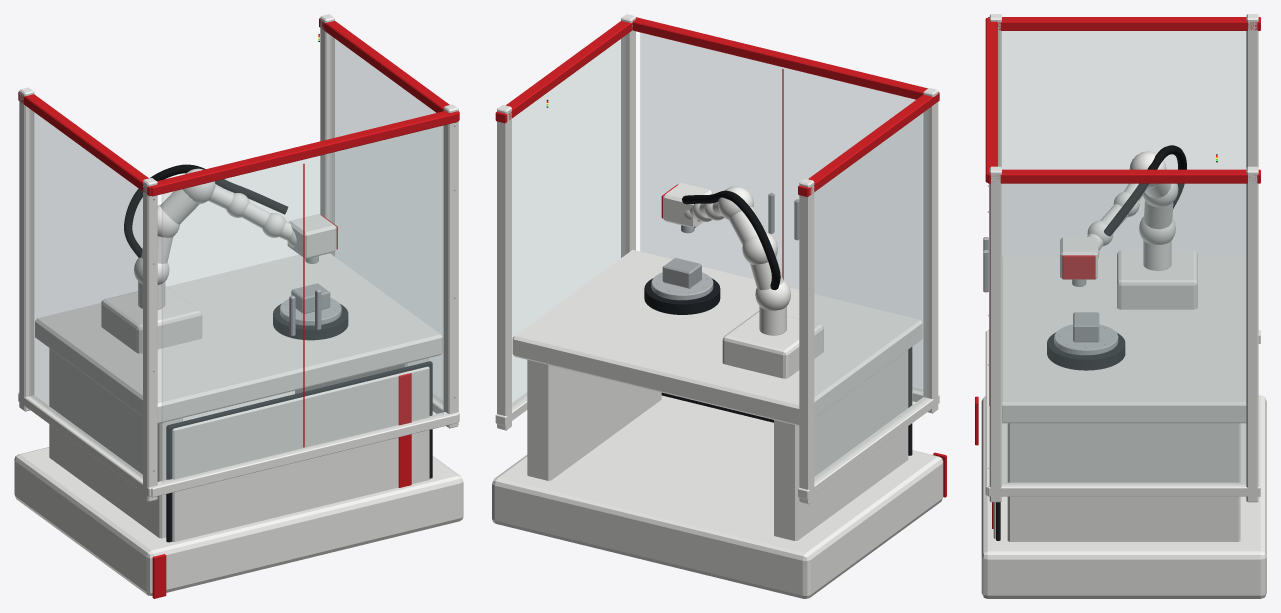
File: robot-graver-cell.glb
3 views of the same model, side by side, from view 1: azimuth 30°, elevation 25°; view 2: azimuth 150°, elevation 25°; view 3: azimuth 270°, elevation 25° (orthographic). The views are drawn at different scales.
Visible parts, largest first — view 1: closed front clear guard, closed guard side polycarbonate, cell white worktable, front white service door, white cell base, closed guard side polycarbonate.001, worktable white cabinet upright, guard vertical white post.001, guard vertical white post.002, guard vertical white post, front red top safety rail, front white lower safety rail (+14 smaller); view 2: closed front clear guard, white cell base, closed guard side polycarbonate, cell white worktable, closed guard side polycarbonate.001, worktable white cabinet upright, worktable white cabinet upright.001, guard vertical white post.001, guard vertical white post, guard vertical white post.003, front red top safety rail, robot mounting plinth (+14 smaller); view 3: closed guard side polycarbonate.001, closed guard side polycarbonate, cell white worktable, worktable white cabinet upright.001, white cell base, guard vertical white post.002, guard vertical white post.003, robot mounting plinth, side guard white bottom rail.001, side guard red top rail.001, side guard red top rail, front red top safety rail (+14 smaller).
Part boxes in pixels (box(x1,y1,x2,y2)): closed front clear guard: box(162, 126, 443, 482); closed guard side polycarbonate: box(29, 109, 142, 478); cell white worktable: box(35, 253, 442, 423); front white service door: box(172, 366, 429, 542); white cell base: box(14, 391, 463, 595); closed guard side polycarbonate.001: box(330, 36, 442, 403); worktable white cabinet upright: box(49, 348, 182, 538); guard vertical white post.001: box(19, 87, 34, 411); guard vertical white post.002: box(443, 104, 458, 428); guard vertical white post: box(143, 178, 157, 501); front red top safety rail: box(151, 111, 458, 196); front white lower safety rail: box(151, 412, 458, 497); closed front clear guard: box(640, 33, 922, 391); white cell base: box(492, 395, 943, 598); closed guard side polycarbonate: box(814, 109, 928, 480); cell white worktable: box(512, 250, 922, 425); closed guard side polycarbonate.001: box(512, 36, 625, 407); worktable white cabinet upright: box(774, 350, 908, 540); worktable white cabinet upright.001: box(527, 360, 661, 480); guard vertical white post.001: box(799, 178, 814, 504); guard vertical white post: box(923, 88, 938, 413); guard vertical white post.003: box(497, 105, 511, 430); front red top safety rail: box(632, 17, 927, 99); robot mounting plinth: box(722, 311, 823, 378); closed guard side polycarbonate.001: box(1002, 184, 1245, 484); closed guard side polycarbonate: box(1002, 31, 1245, 256); cell white worktable: box(1002, 256, 1246, 423); worktable white cabinet upright.001: box(1007, 423, 1240, 541); white cell base: box(981, 395, 1266, 598); guard vertical white post.002: box(989, 166, 1001, 502); guard vertical white post.003: box(1246, 166, 1258, 502); robot mounting plinth: box(1117, 250, 1197, 309); side guard white bottom rail.001: box(987, 482, 1260, 496); side guard red top rail.001: box(987, 169, 1260, 183); side guard red top rail: box(988, 17, 1260, 30); front red top safety rail: box(985, 18, 997, 182).
Bounding box in the file's own units: 1.6 × 1.99 × 1.23.
